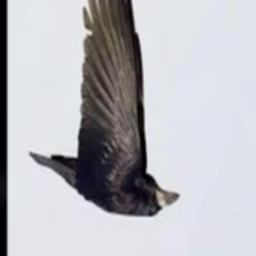Crow: (31, 0, 181, 218)
